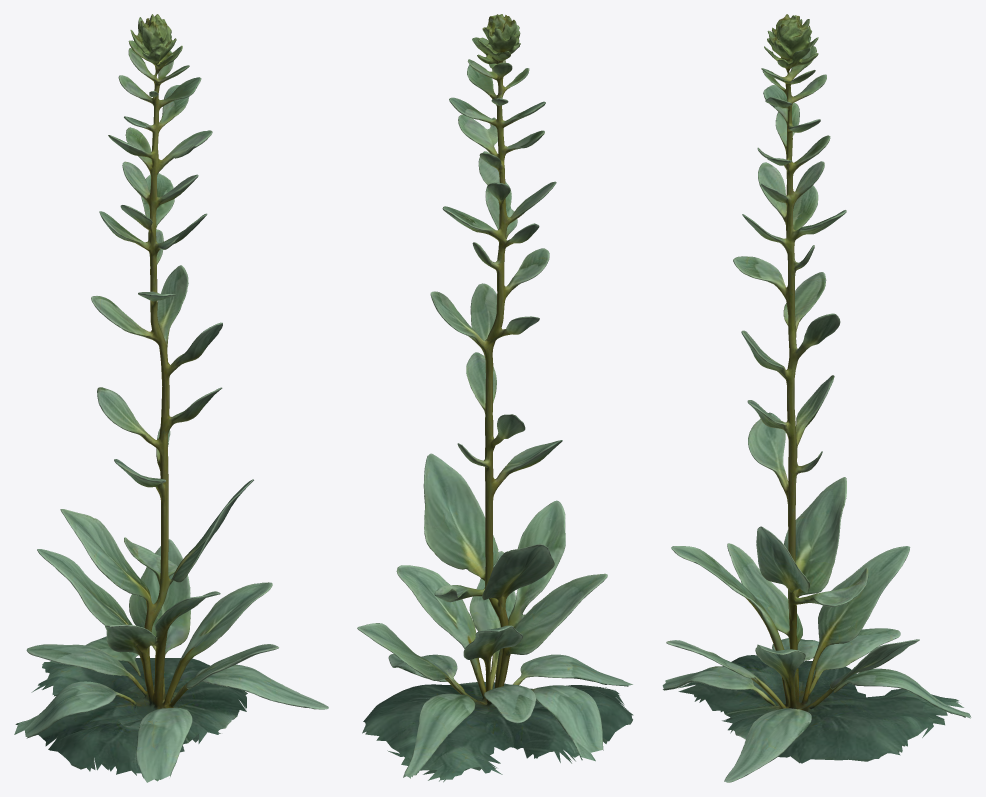
Rendered from plant-a.glb.
3 renders of one model, left to right at view 1: azimuth 30°, elevation 25°; view 2: azimuth 150°, elevation 25°; view 3: azimuth 270°, elevation 25°, orthographic.
Parts seen in each view (by area): view 1: Mesh_0; view 2: Mesh_0; view 3: Mesh_0.
Boxes of the visible parts, box(x1,y1,x2,y2) form: Mesh_0: box(14, 14, 328, 782); Mesh_0: box(357, 14, 633, 782); Mesh_0: box(662, 14, 971, 782).
Bounding box in the file's own units: 0.2694 × 0.7 × 0.278.
Materials: 1 (1 with a texture image).
